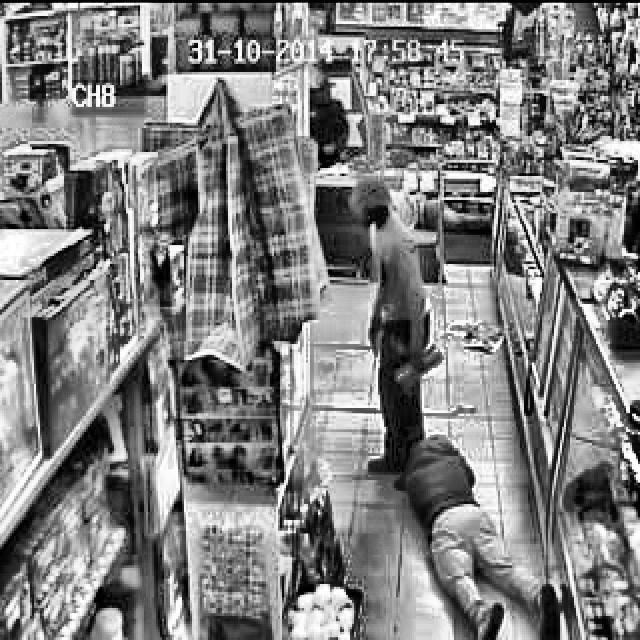robbery: (389, 430, 564, 640), (346, 168, 454, 482)
